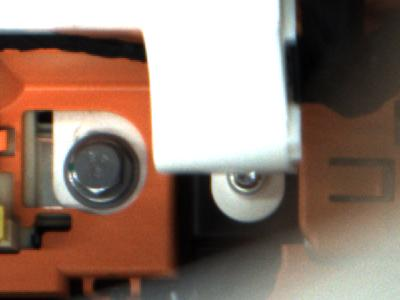nut_b: (58, 130, 147, 209)
